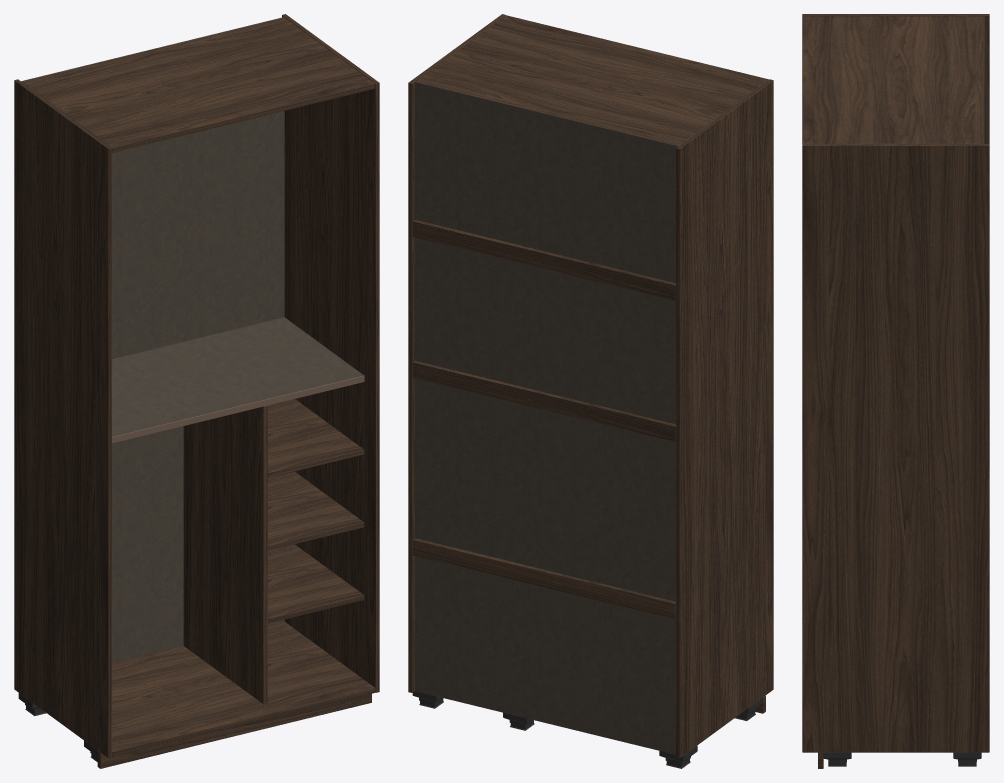
3 views of the same model, side by side, from view 1: azimuth 30°, elevation 25°; view 2: azimuth 150°, elevation 25°; view 3: azimuth 270°, elevation 25° (orthographic).
Parts seen in each view (by area): view 1: HK1001073; view 2: HK1001073; view 3: HK1001073.
Part boxes in pixels (x1=…): HK1001073: x1=14, y1=14, x2=379, y2=768; HK1001073: x1=408, y1=14, x2=773, y2=768; HK1001073: x1=802, y1=14, x2=989, y2=768.
Size of the model in its own units: 1 by 2.2 by 0.6.
6 materials, 5 textured.
